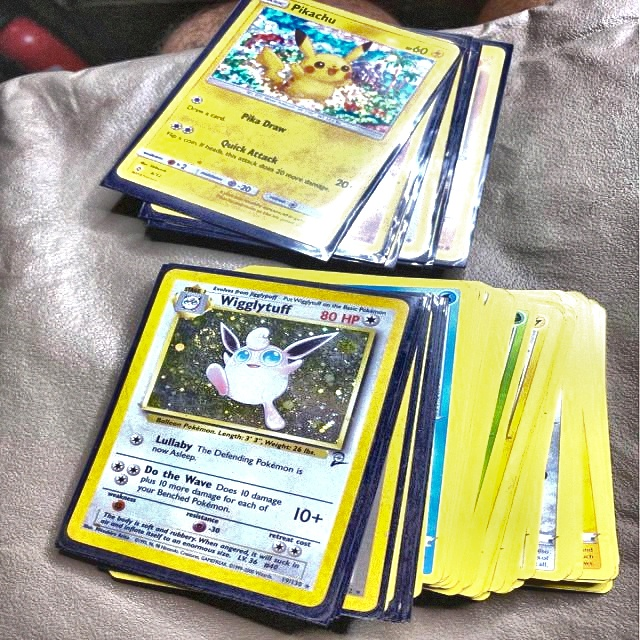card: (56, 266, 423, 615), (112, 0, 467, 252)
